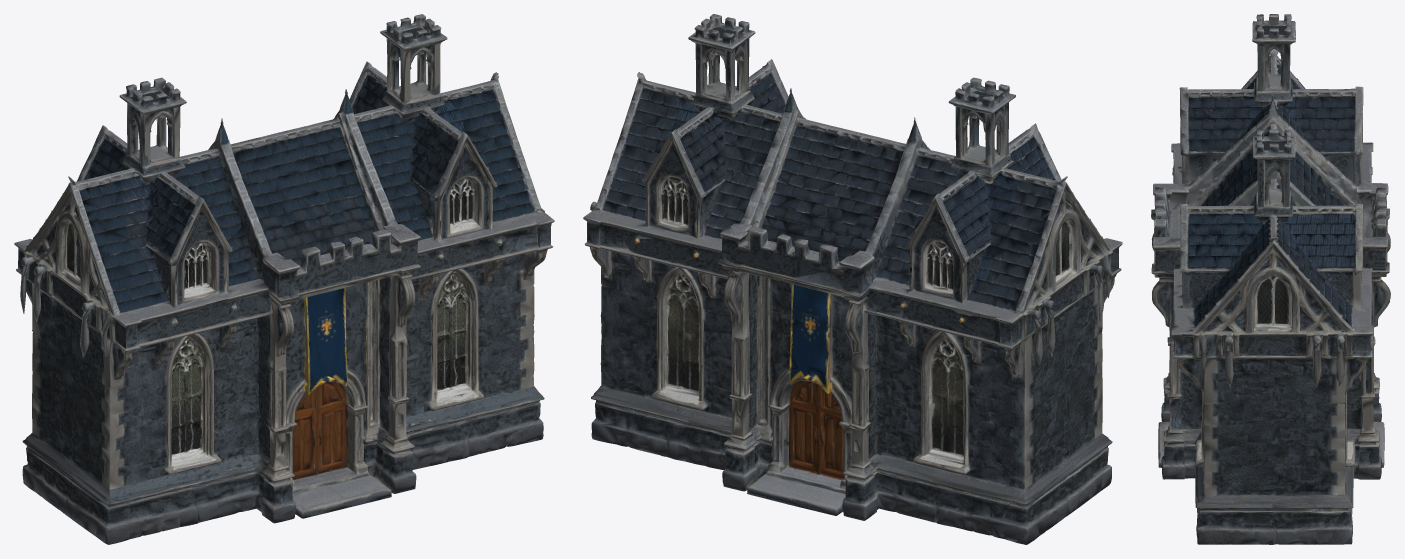
The model's file is gothic_bay.glb.
3 views of the same model, side by side, from view 1: azimuth 30°, elevation 25°; view 2: azimuth 150°, elevation 25°; view 3: azimuth 270°, elevation 25° (orthographic). The views are drawn at different scales.
Bounding box in the file's own units: 1.9 × 1.63 × 0.96.
Materials: 1 (1 with a texture image).
